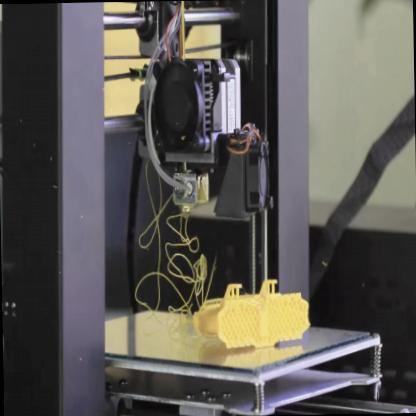fail: (149, 207, 209, 310)
